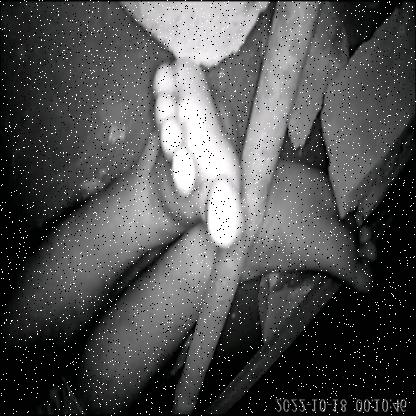leg: (22, 44, 252, 245), (255, 156, 399, 306)
